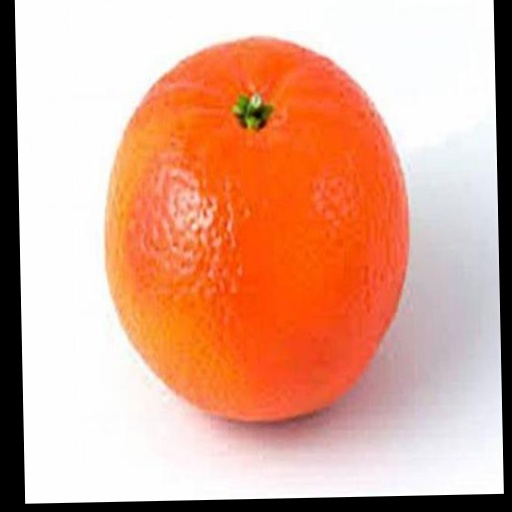fruit: (106, 39, 408, 419)
